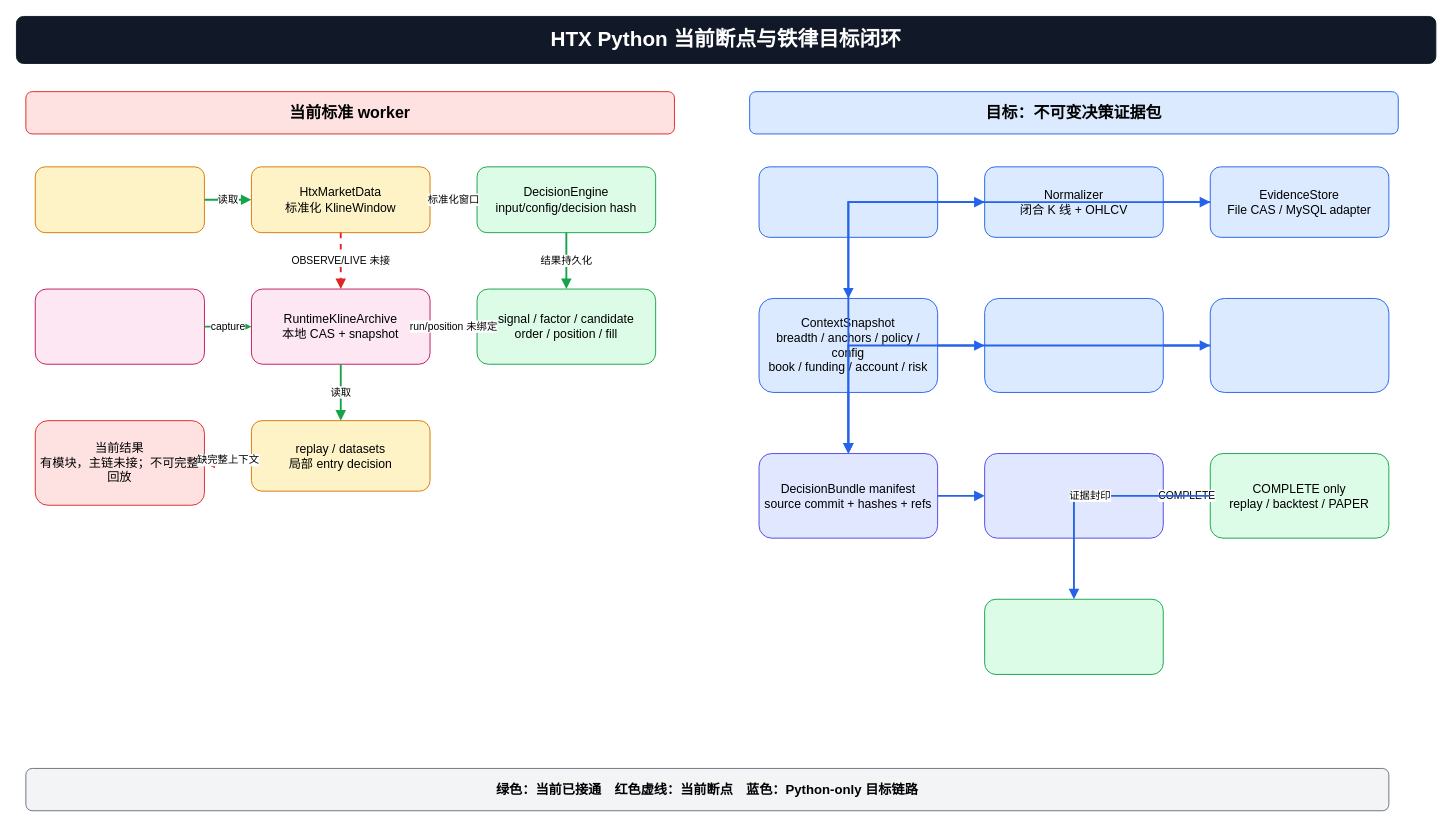
The diagram is 1452 pixels wide and 827 high, and some of its shapes have lost their labels. The box of each missing label's shape, as (x1, y1, x2, y2) in pixels:
12-stage sealed admission allowed surfaces: (984, 598, 1163, 674)
DecisionEngine entry / gate / sizing / exit: (984, 298, 1163, 392)
Lifecycle events intent / order / fill / position: (1209, 298, 1389, 392)
PaperTrendScanner 唯一真实调用 archive: (34, 288, 204, 364)
QualityAudit gap / duplicate / OHLC / jump: (984, 453, 1163, 538)
Raw HTX response 请求/分页/HTTP 状态: (758, 166, 938, 237)
worker.py OBSERVE / LIVE: (34, 166, 204, 233)
